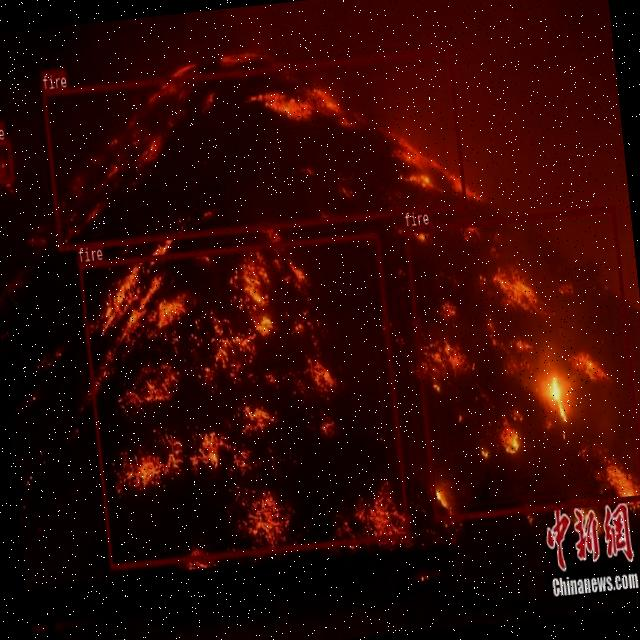fire: (78, 231, 410, 568), (41, 46, 466, 250), (403, 205, 640, 521), (0, 138, 12, 184)
